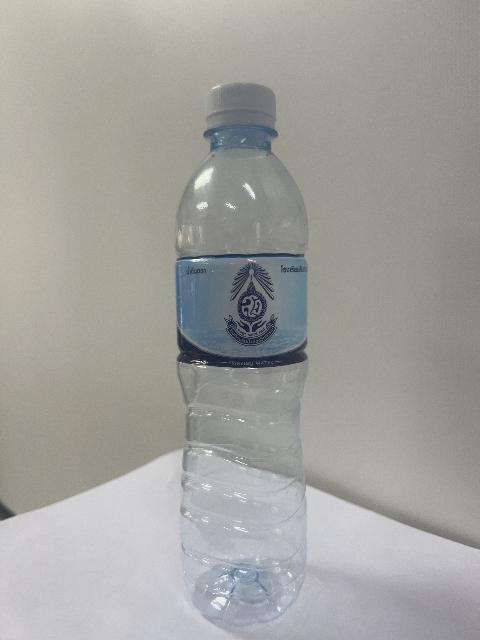bottle: (177, 84, 307, 625)
